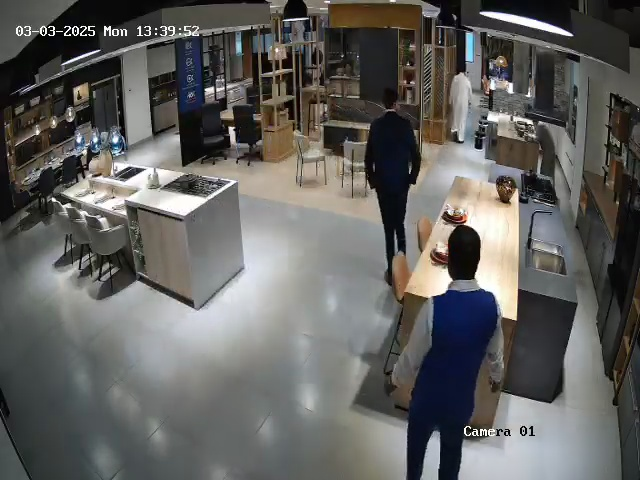employee: (398, 223, 503, 479), (364, 88, 422, 285)
male: (446, 52, 474, 155), (533, 113, 557, 195)
